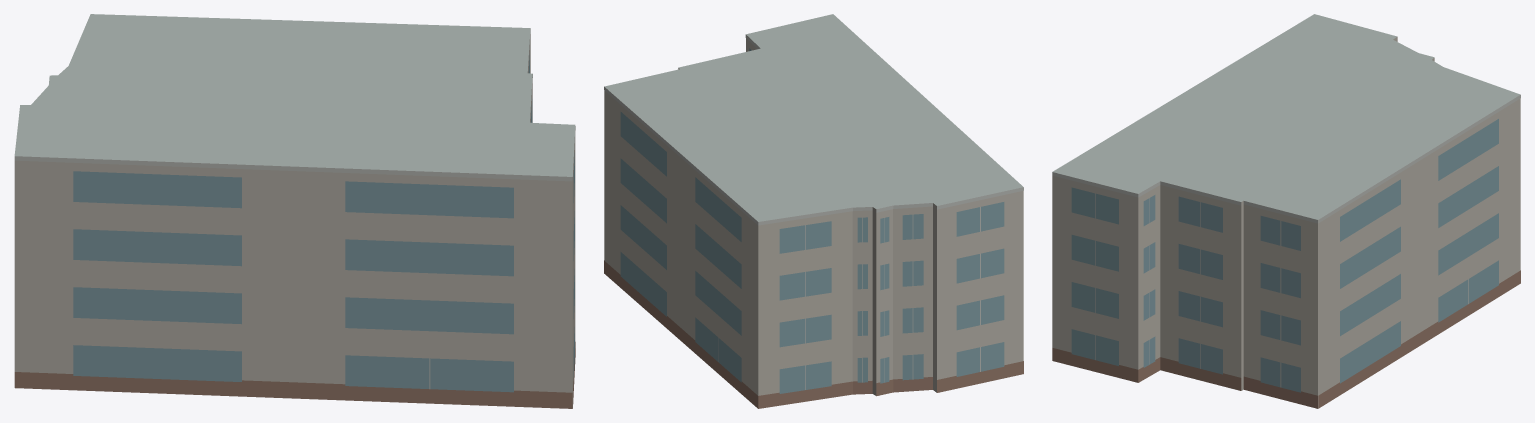
File: survey-upis-32653094.glb
3 renders of one model, left to right at view 1: azimuth 30°, elevation 25°; view 2: azimuth 150°, elevation 25°; view 3: azimuth 270°, elevation 25°, orthographic. The views are drawn at different scales.
Visible parts, largest first — view 1: survey-upis-32653094.tmp; view 2: survey-upis-32653094.tmp; view 3: survey-upis-32653094.tmp.
Boxes of the visible parts, <box> form: survey-upis-32653094.tmp: <box>14,14,575,408</box>; survey-upis-32653094.tmp: <box>604,14,1023,408</box>; survey-upis-32653094.tmp: <box>1052,14,1520,408</box>.
Bounding box in the file's own units: 29.83 × 12.75 × 28.67.
